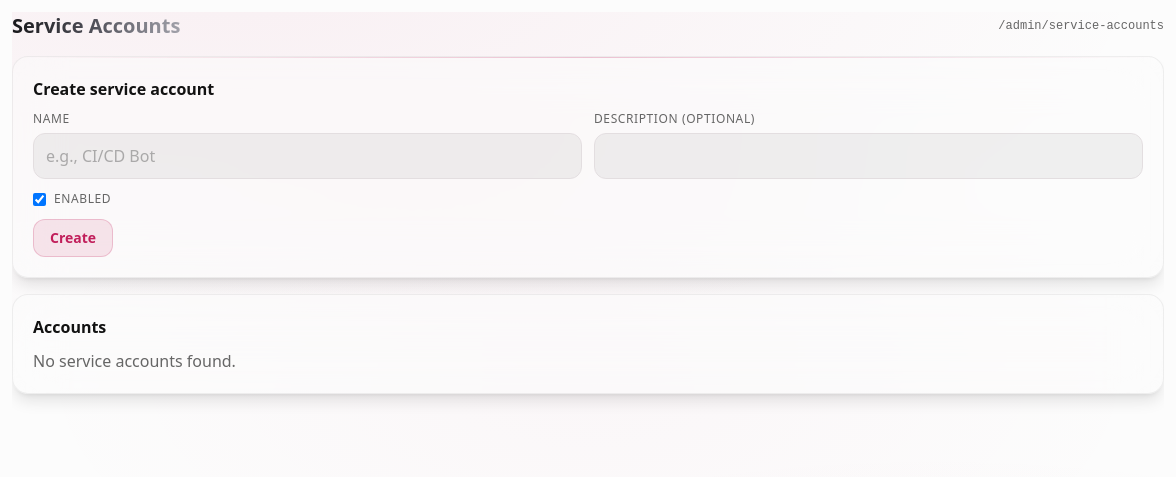
Scenario: AdminServiceAccountsRoute › creates a new service account
Expected: the text "No service accounts found." is shown, [33,350,236,372]
Type "Bot Two" into the field labelled "Name". click: (308, 156)
box: [33,133,582,179]
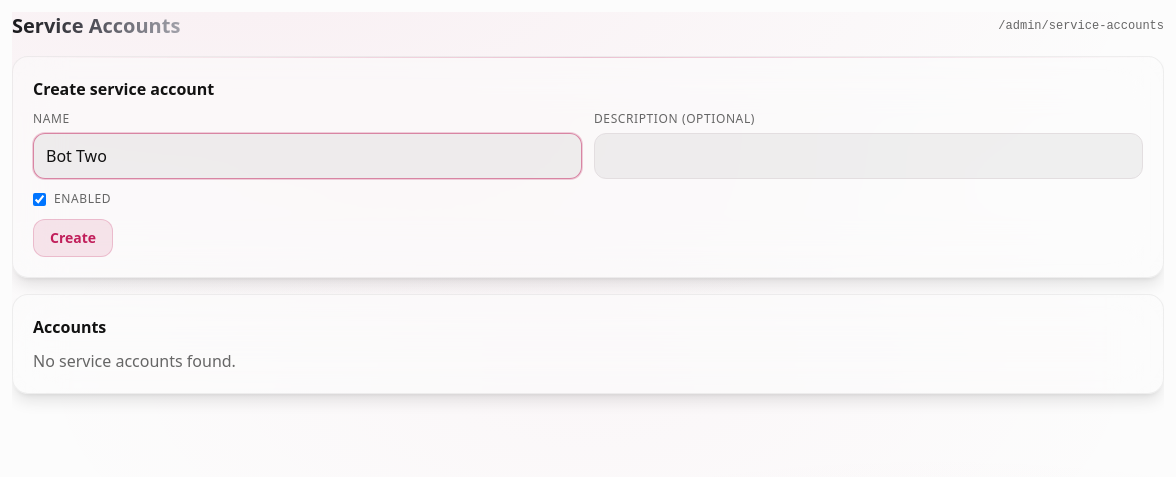
Click the button "Create". click: (73, 238)
box: [33,219,113,257]
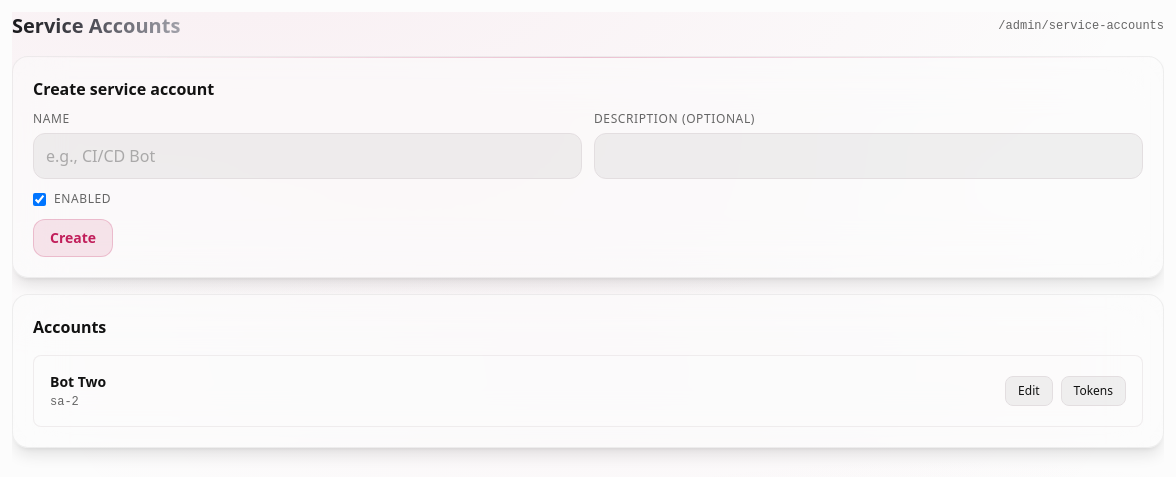
Expected: the text "Bot Two" is shown, [50,372,106,392]
